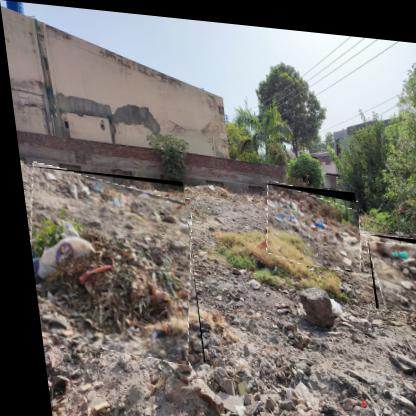Garbage: (17, 166, 198, 361), (258, 179, 361, 266), (362, 227, 416, 309)
